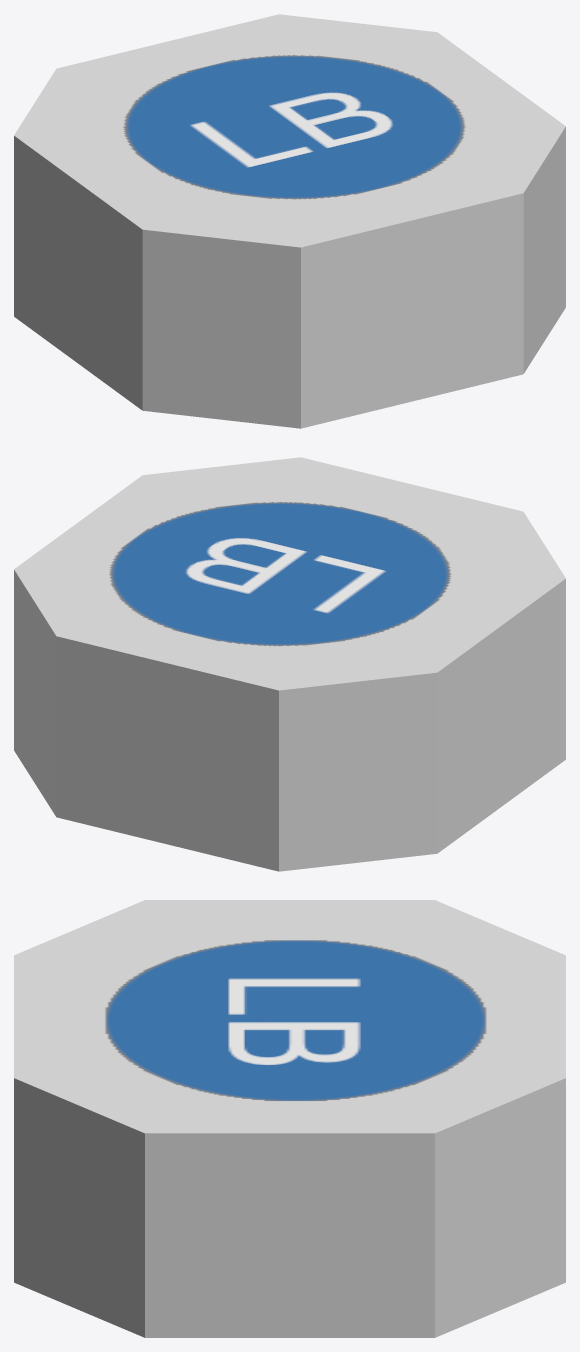
Rendered from LoadBalancer.dae.
3 views of the same model, one above another, from view 1: azimuth 30°, elevation 25°; view 2: azimuth 150°, elevation 25°; view 3: azimuth 270°, elevation 25° (orthographic). The views are drawn at different scales.
Visible parts, largest first — view 1: LoadBalancer; view 2: LoadBalancer; view 3: LoadBalancer.
Part boxes in pixels (x1,y1,x2,y2): LoadBalancer: (14,14,565,428); LoadBalancer: (14,457,565,871); LoadBalancer: (14,900,565,1337).
Size of the model in its own units: 1.71 by 1.71 by 0.7.
1 material, 1 textured.
